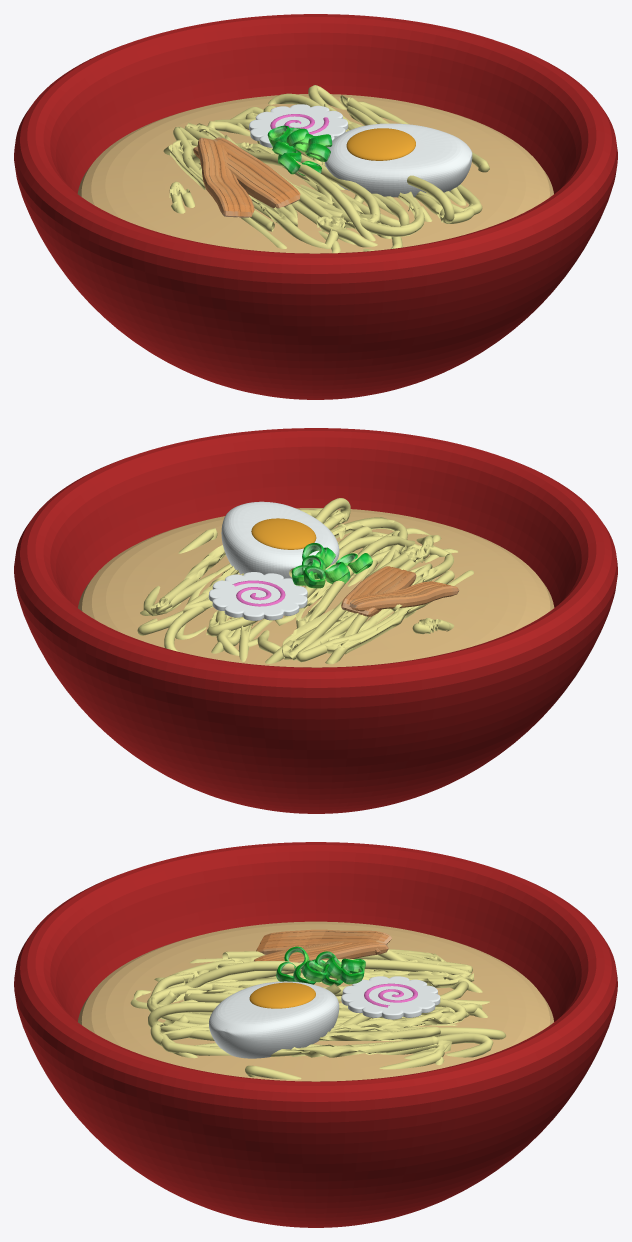
Rendered from Shoyu-ramen.fbx.
3 views of the same model, one above another, from view 1: azimuth 30°, elevation 25°; view 2: azimuth 150°, elevation 25°; view 3: azimuth 270°, elevation 25° (orthographic).
Visible parts, largest first — view 1: Spiral.005; view 2: Spiral.005; view 3: Spiral.005.
Part boxes in pixels (left/top/right/bottom): Spiral.005: left=14, top=14, right=617, bottom=399; Spiral.005: left=14, top=428, right=617, bottom=813; Spiral.005: left=14, top=842, right=617, bottom=1227.
Size of the model in its own units: 189 by 82.61 by 189.
